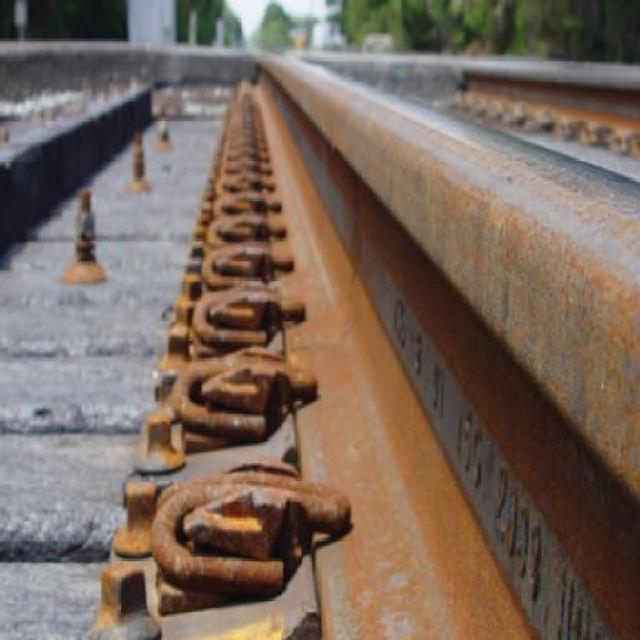defective: (275, 17, 640, 577)
